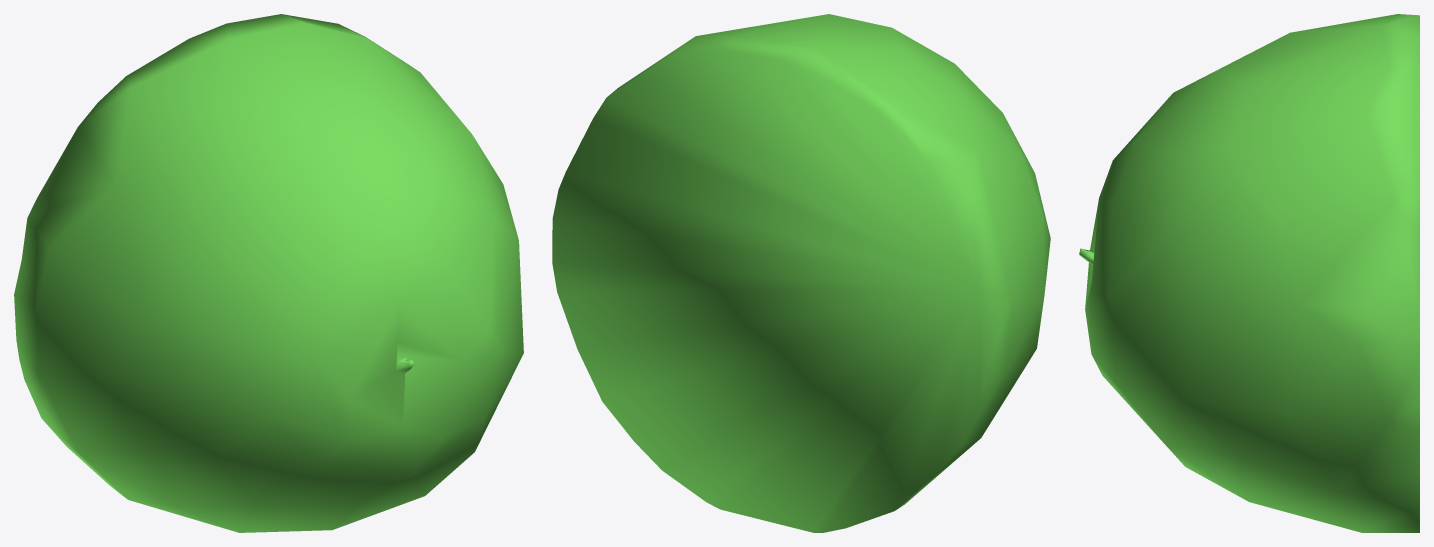
File: melon_left.obj
3 views of the same model, side by side, from view 1: azimuth 30°, elevation 25°; view 2: azimuth 150°, elevation 25°; view 3: azimuth 270°, elevation 25° (orthographic). The views are drawn at different scales.
Visible parts, largest first — view 1: melon.002; view 2: melon.002; view 3: melon.002.
Boxes of the visible parts, bbox=[...] form: melon.002: bbox=[14, 14, 523, 532]; melon.002: bbox=[552, 14, 1050, 532]; melon.002: bbox=[1079, 14, 1419, 532].
Size of the model in its own units: 0.1763 by 0.1803 by 0.1192.
